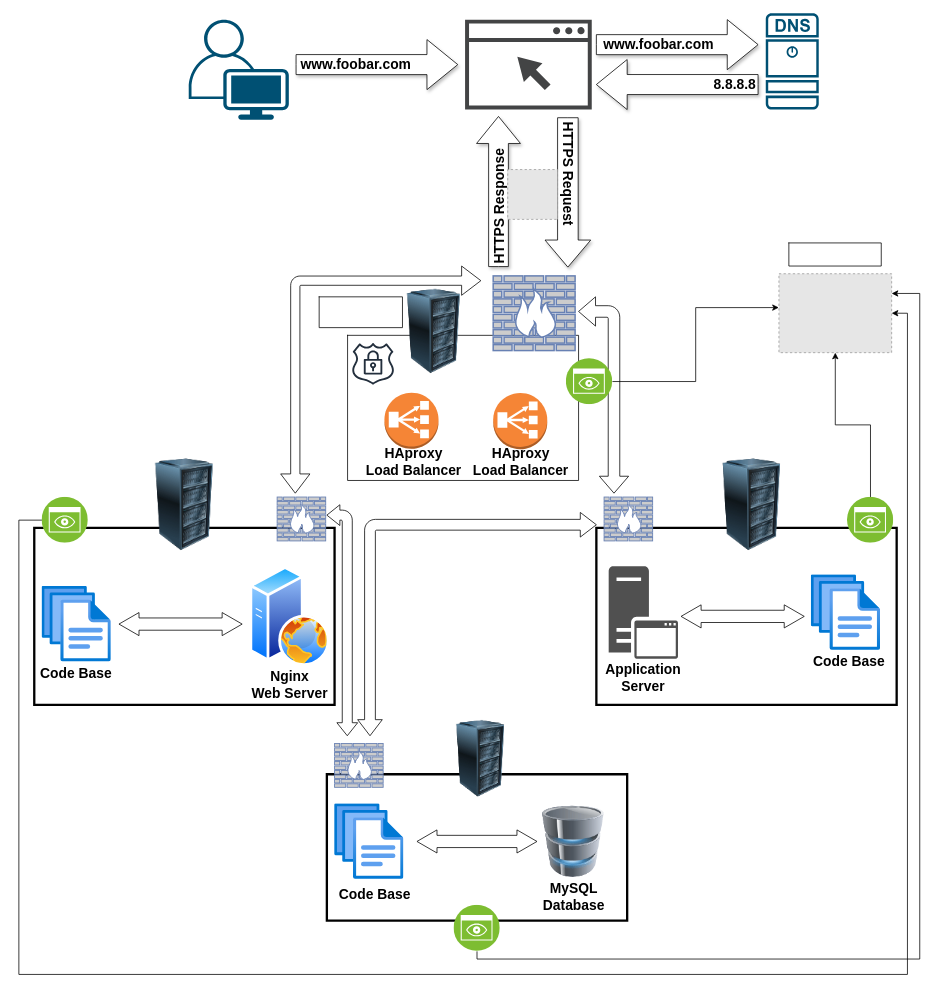
This 939x994 diagram has some shape labels left out. Grey dashed boxes stand in for pictures. The shapes that lost their labels are listed below. From the top down, each one's centre as x and y in pixels, then its label:
At [834,254]: "sumo logic".
At [360,312]: "IP : 8.8.8.8 Server".
